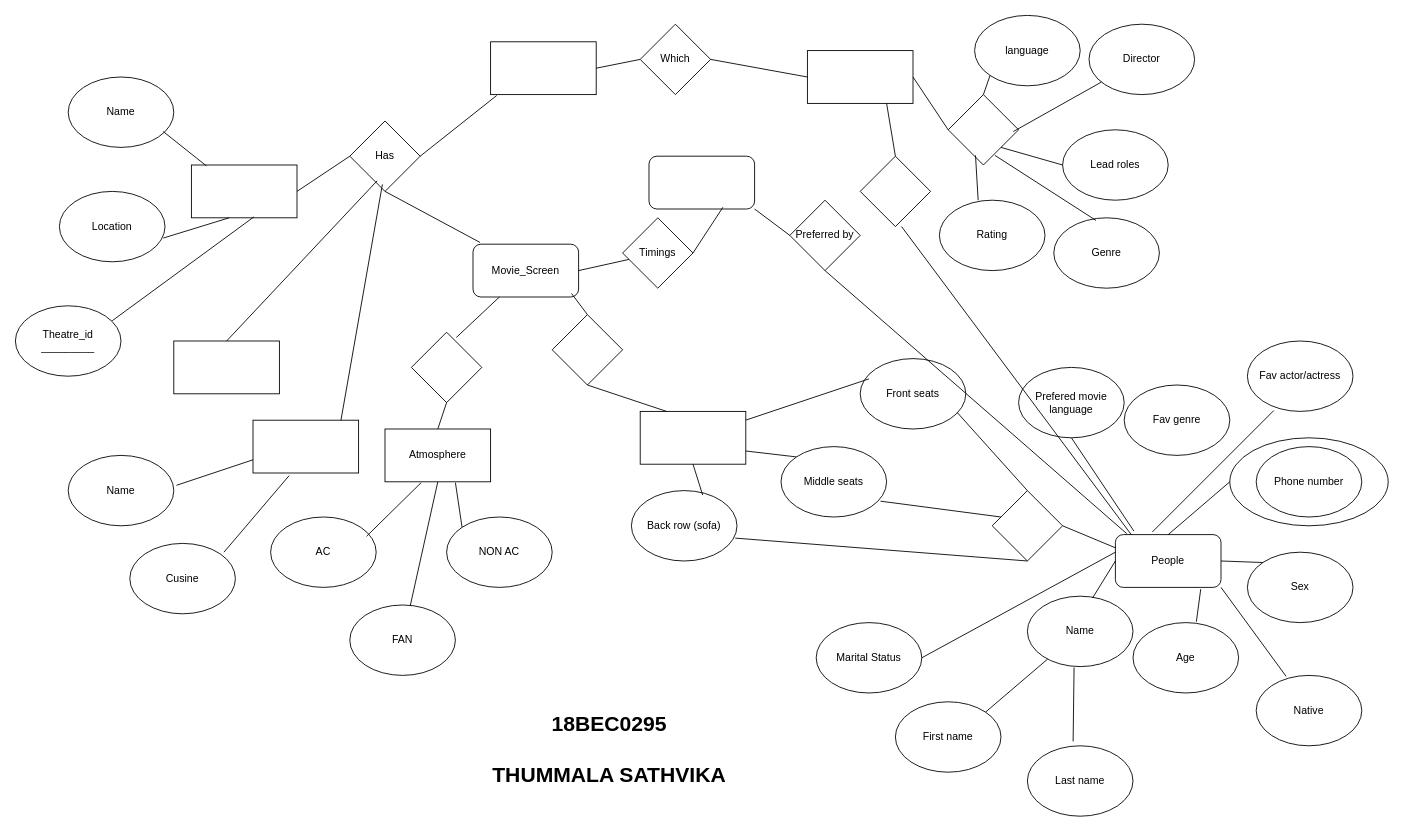
Image size: 1404x832. Some labels were removed from this diagram. Here are the shapes that lost their labels. From the top down, the centre of each, then its label:
At point 543,68: "Tickets".
At point 860,76: "Movie".
At point 983,129: "Screening of".
At point 244,191: "Theatre".
At point 701,182: "Show time".
At point 895,191: "Watched by".
At point 226,367: "Car parking".
At point 446,367: "Is with".
At point 587,349: "Type of seat".
At point 305,446: "Food court".
At point 692,437: "Class".
At point 1027,525: "Selected by".
